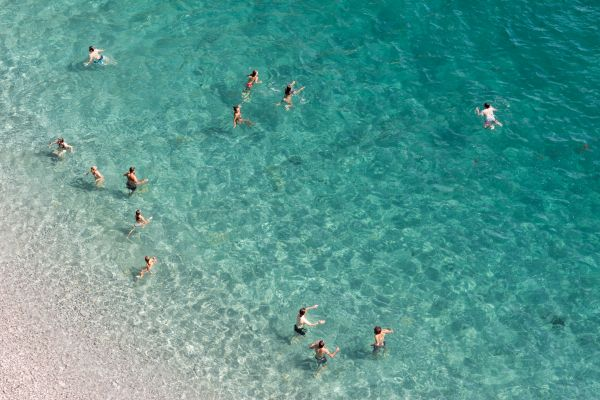people: (292, 303, 326, 339), (308, 336, 341, 372), (272, 80, 307, 111), (123, 208, 155, 239), (121, 165, 151, 198), (368, 323, 395, 357), (474, 101, 504, 131), (81, 45, 117, 69), (230, 103, 258, 131), (242, 68, 263, 100), (48, 136, 73, 161), (136, 253, 158, 280), (83, 164, 105, 189)
